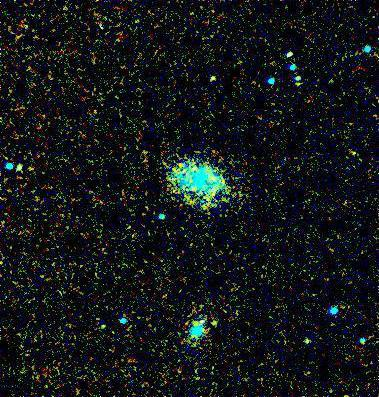star: (198, 66, 228, 96)
